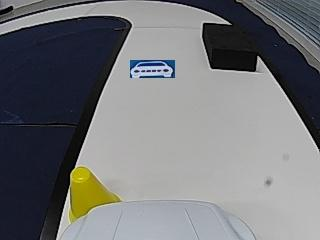block: (202, 23, 257, 70)
cone: (70, 167, 121, 202)
